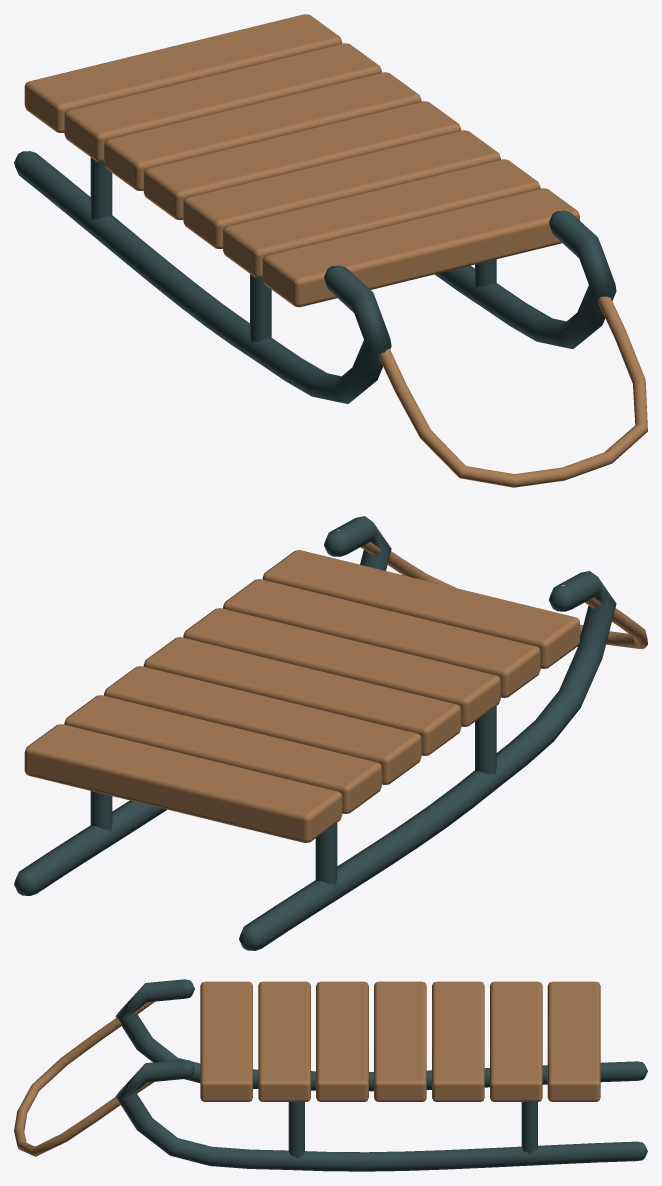
File: almanac-gardens-wooden-sled-012836a0__22090.glb
The picture shows the model from 3 angles, top to bottom: view 1: azimuth 30°, elevation 25°; view 2: azimuth 150°, elevation 25°; view 3: azimuth 270°, elevation 25°; orthographic projection. The views are drawn at different scales.
Parts seen in each view (by area): view 1: wooden-sled-oak, wooden-sled-iron; view 2: wooden-sled-oak, wooden-sled-iron; view 3: wooden-sled-oak, wooden-sled-iron.
Part boxes in pixels (x1=…): wooden-sled-oak: x1=24, y1=14, x2=647, y2=487; wooden-sled-iron: x1=14, y1=151, x2=616, y2=403; wooden-sled-oak: x1=24, y1=542, x2=647, y2=842; wooden-sled-iron: x1=14, y1=516, x2=616, y2=950; wooden-sled-oak: x1=14, y1=981, x2=600, y2=1156; wooden-sled-iron: x1=115, y1=979, x2=647, y2=1171.
Bounding box in the file's own units: 0.56 × 0.2972 × 1.47.
